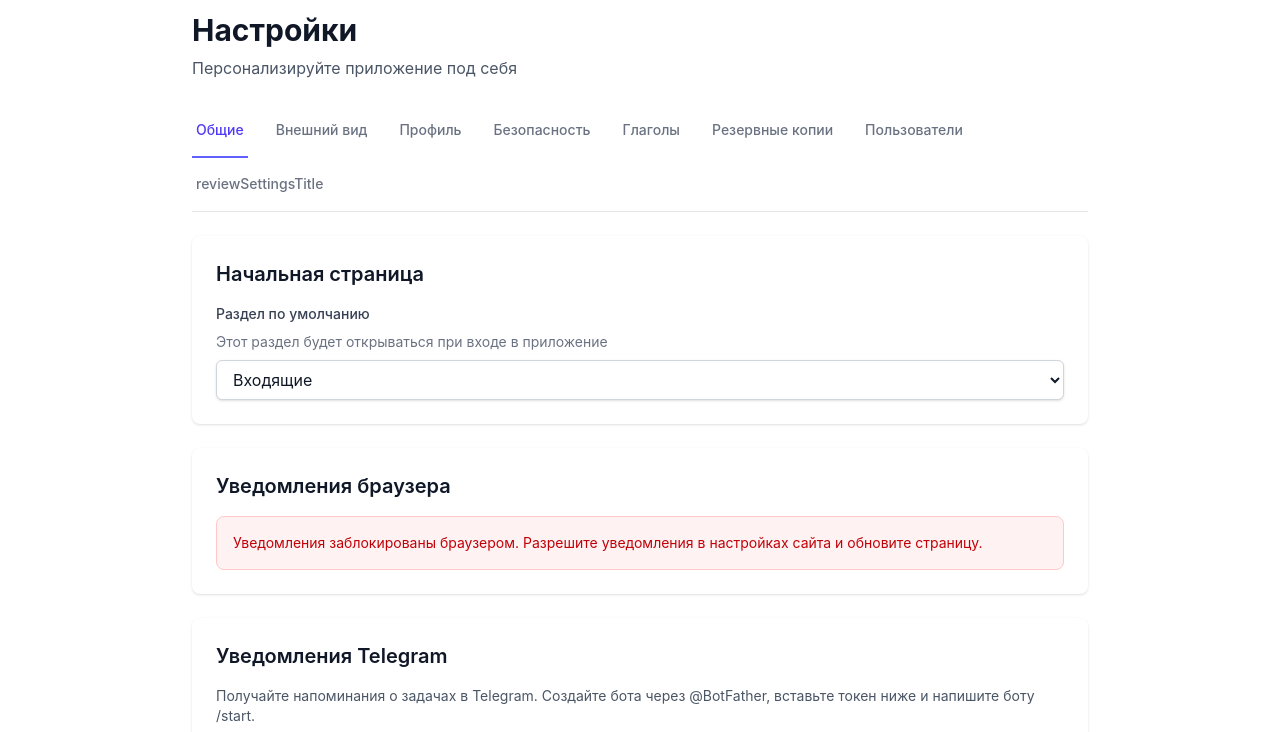
Test: Settings › tab switching › switches to users tab when clicked
Click the button "Пользователи". click: (914, 131)
box: [861,104,967,158]
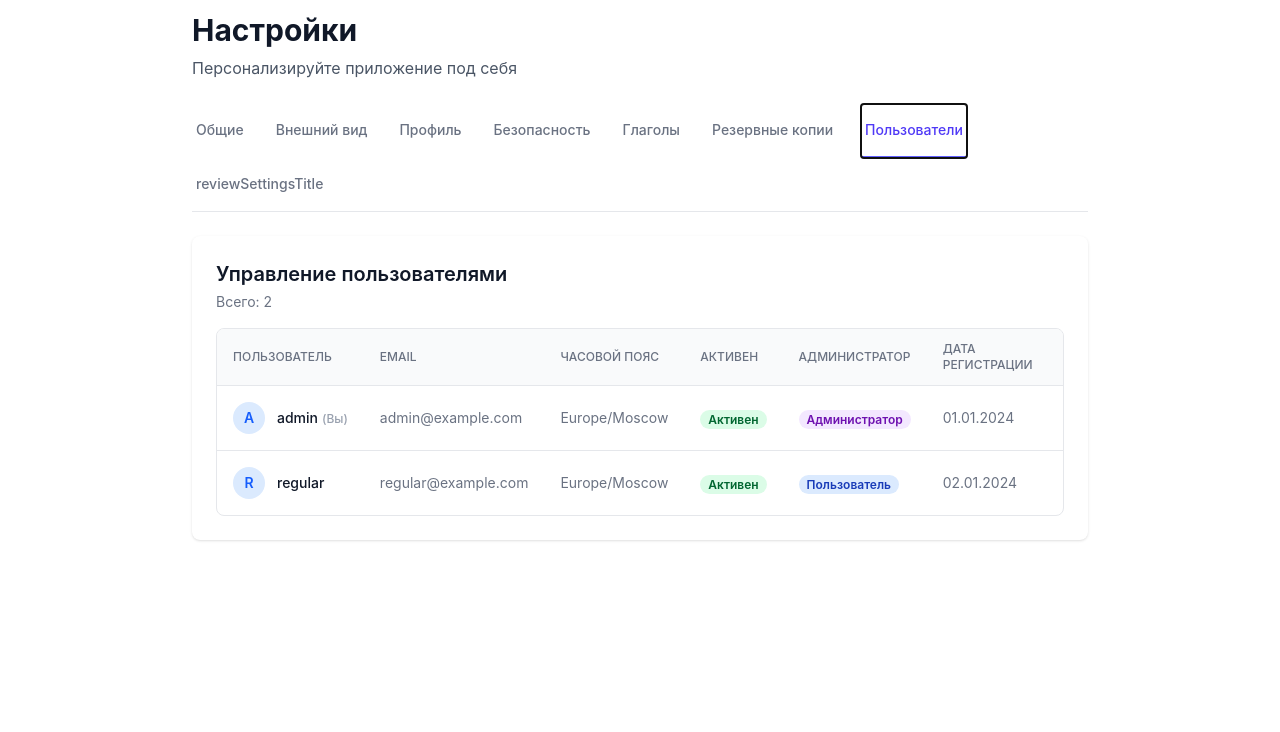
Check: the heading "Управление пользователями" is shown, box [216,262,507,286]
